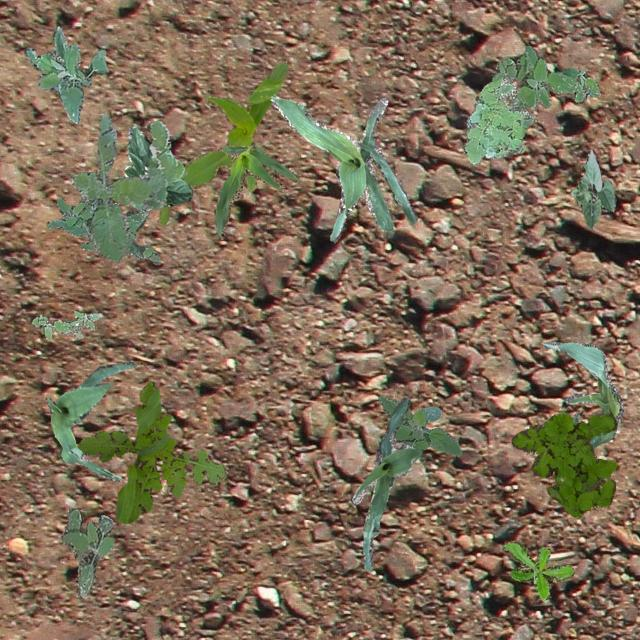crop: (269, 96, 416, 242), (156, 62, 286, 225), (352, 397, 416, 570), (44, 360, 134, 480), (542, 340, 622, 448), (212, 142, 298, 238), (124, 126, 192, 210), (570, 148, 614, 228)
weed: (76, 380, 226, 522), (70, 114, 184, 260), (510, 412, 618, 516), (22, 26, 106, 122), (46, 196, 160, 264), (492, 44, 598, 109), (464, 72, 534, 166), (378, 394, 460, 462), (58, 508, 114, 596), (504, 540, 572, 600), (31, 310, 98, 340)
